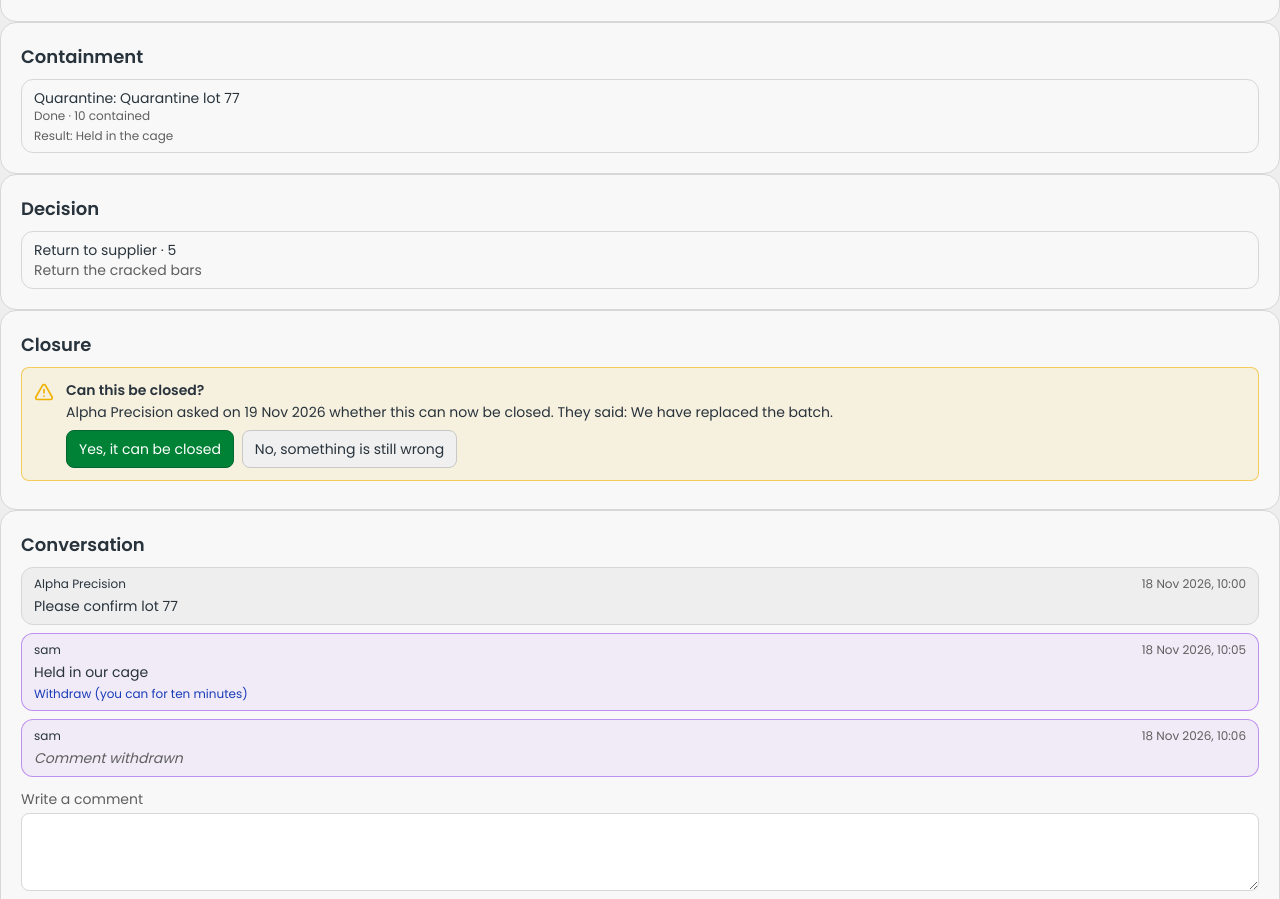
closure confirmation (PT5b) › needs words before saying something is still wrong
This screenshot has width=1280, height=899.
Later steps or results of the test are not shown.
(page scrolled)
Click the button "No, something is still wrong": (350, 449) [242, 430, 457, 468]
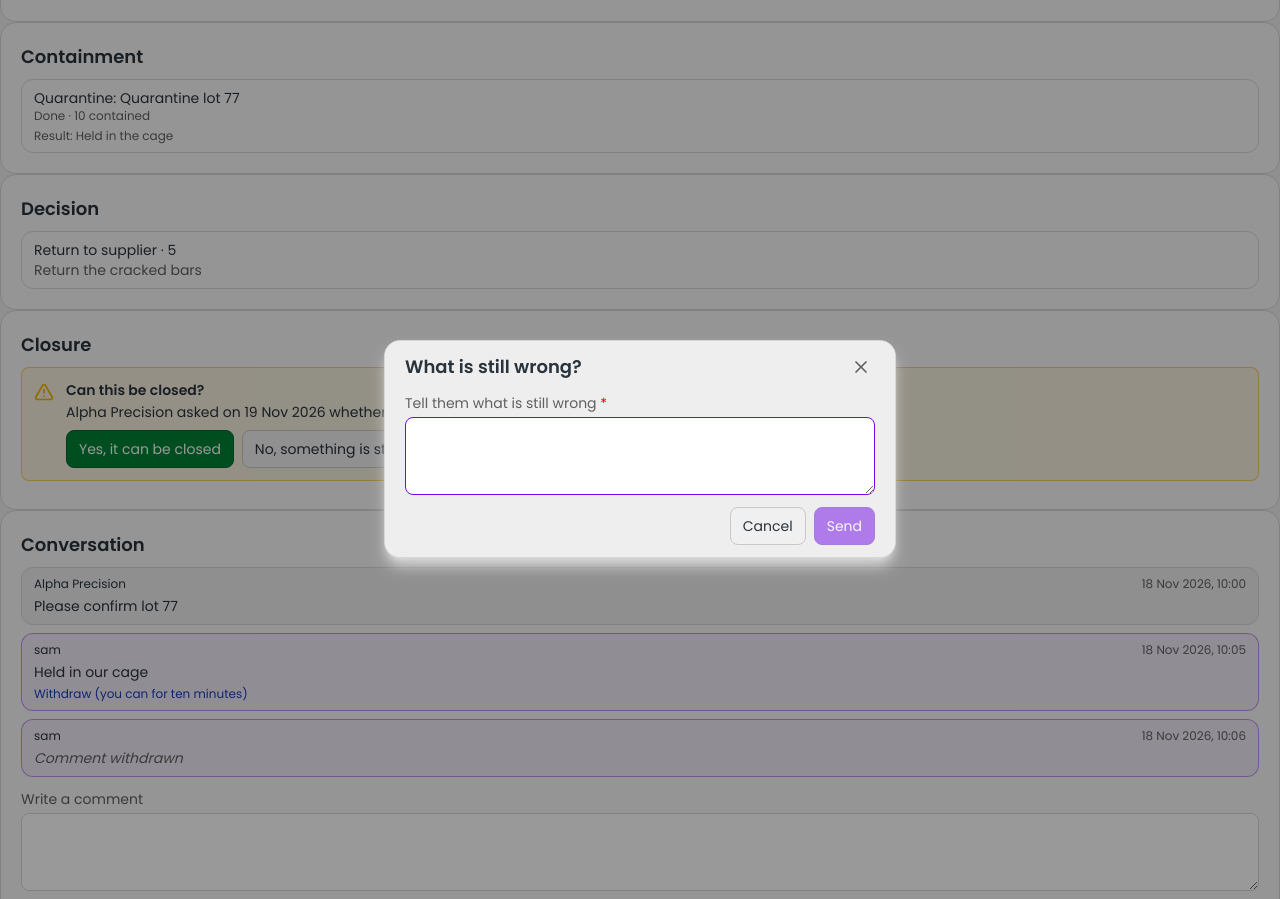
Expected: the button "Send" is disabled, [814, 507, 875, 545]
